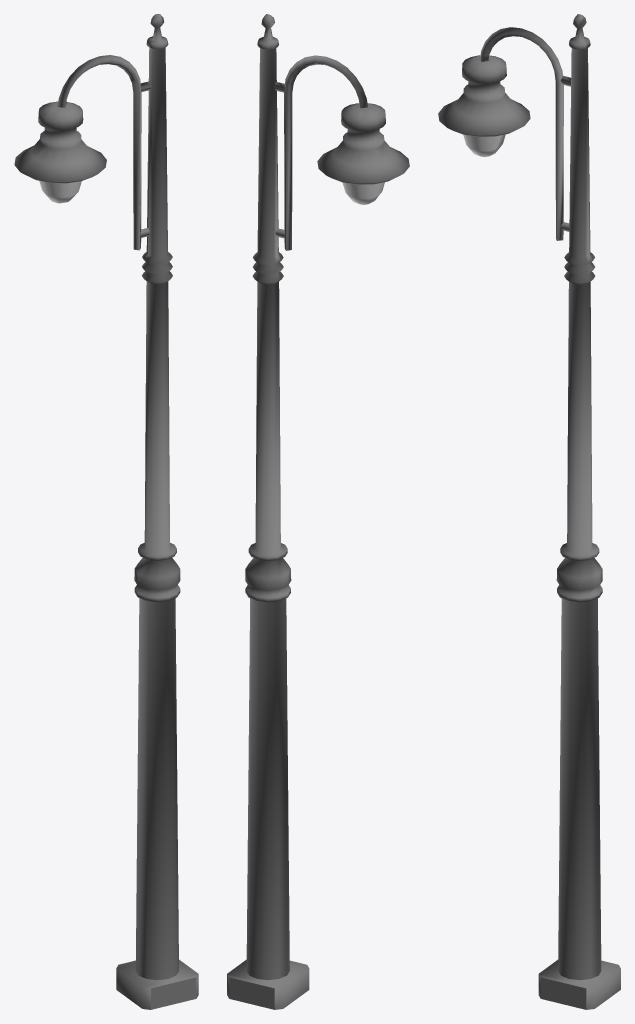
The model's file is nc_prop_lamp_arc_01.fbx.
3 views of the same model, side by side, from view 1: azimuth 30°, elevation 25°; view 2: azimuth 150°, elevation 25°; view 3: azimuth 330°, elevation 25° (orthographic).
Parts seen in each view (by area): view 1: nc_prop_lamp_arc_01_LOD0; view 2: nc_prop_lamp_arc_01_LOD0; view 3: nc_prop_lamp_arc_01_LOD0.
Part boxes in pixels (x1,y1,x2,y2): nc_prop_lamp_arc_01_LOD0: [14, 14, 198, 1009]; nc_prop_lamp_arc_01_LOD0: [227, 14, 409, 1009]; nc_prop_lamp_arc_01_LOD0: [438, 14, 620, 1009].
Size of what is drawn, in the model's own units: 0.5447 by 3.09 by 0.2675.
1 material, 1 textured.
